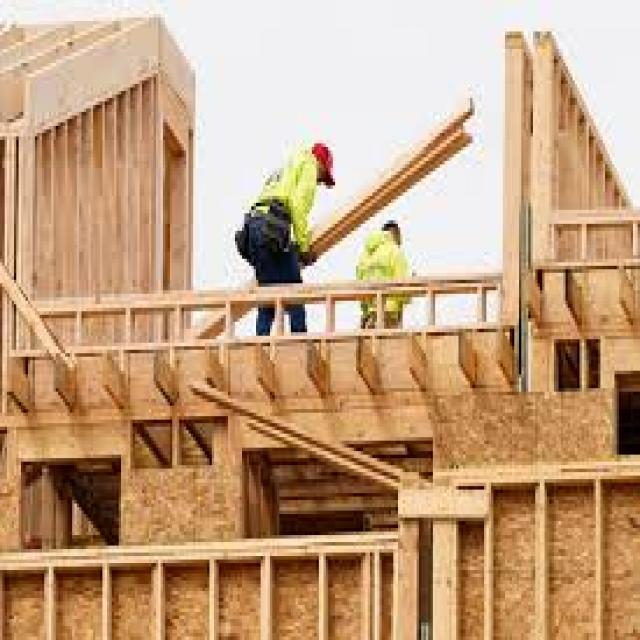Reflective-Jacket: (238, 144, 324, 262)
Safety-Helmet: (305, 133, 342, 192), (377, 206, 410, 245)
